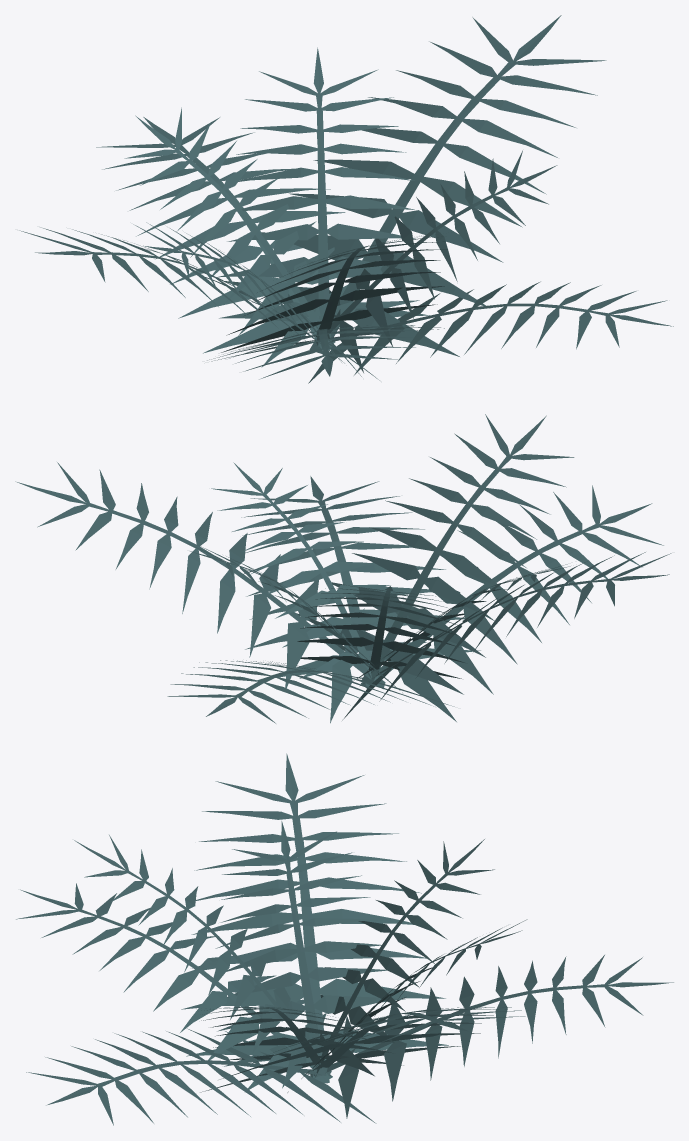
The model's file is plante1_v1.fbx.
The picture shows the model from 3 angles, top to bottom: view 1: azimuth 30°, elevation 25°; view 2: azimuth 150°, elevation 25°; view 3: azimuth 270°, elevation 25°; orthographic projection. The views are drawn at different scales.
Visible parts, largest first — view 1: Plane.010; view 2: Plane.010; view 3: Plane.010.
Boxes of the visible parts, x1,y1,x2,y2 form: Plane.010: (19,15,673,383); Plane.010: (15,414,671,723); Plane.010: (16,753,673,1125).
Bounding box in the file's own units: 998 × 333 × 942.
